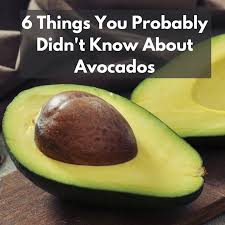aguacate: (4, 81, 213, 209)
